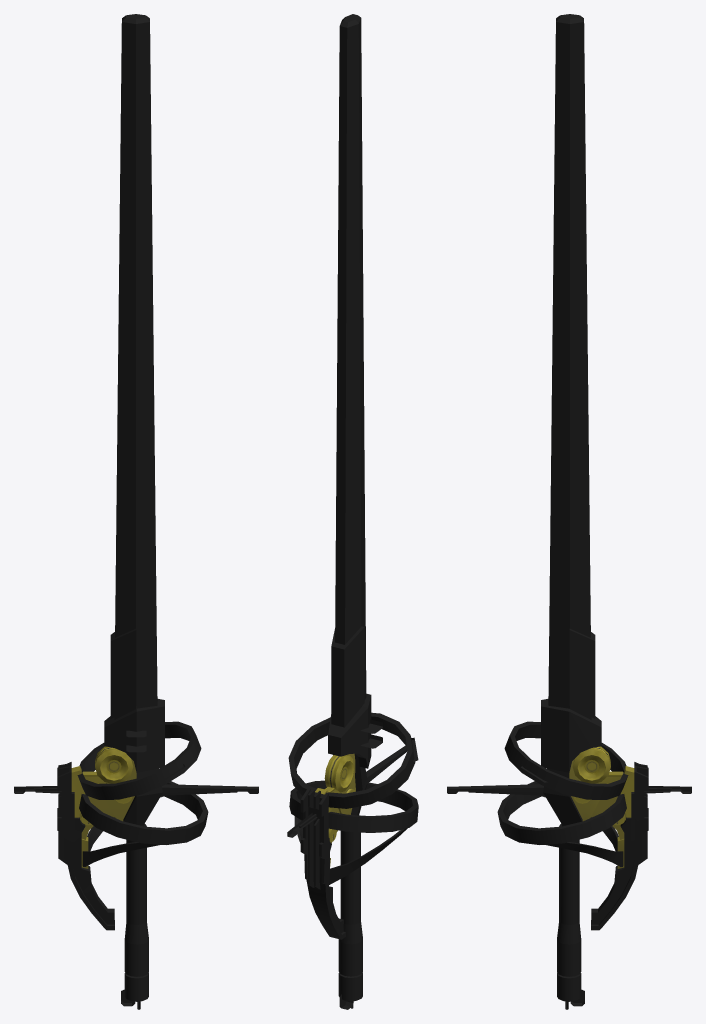
The model's file is P06_Rapier.fbx.
The picture shows the model from 3 angles, left to right: view 1: azimuth 90°, elevation 25°; view 2: azimuth 150°, elevation 25°; view 3: azimuth 270°, elevation 25°; orthographic projection.
Visible parts, largest first — view 1: Rapier_sheath, Rapier; view 2: Rapier_sheath, Rapier; view 3: Rapier_sheath, Rapier.
Boxes of the visible parts, x1,y1,x2,y2 form: Rapier_sheath: (104, 14, 164, 772); Rapier: (14, 721, 258, 1009); Rapier_sheath: (328, 14, 382, 768); Rapier: (287, 712, 418, 1009); Rapier_sheath: (541, 14, 601, 772); Rapier: (447, 721, 691, 1009).
Size of the model in its own units: 0.1056 by 0.1995 by 0.893.
